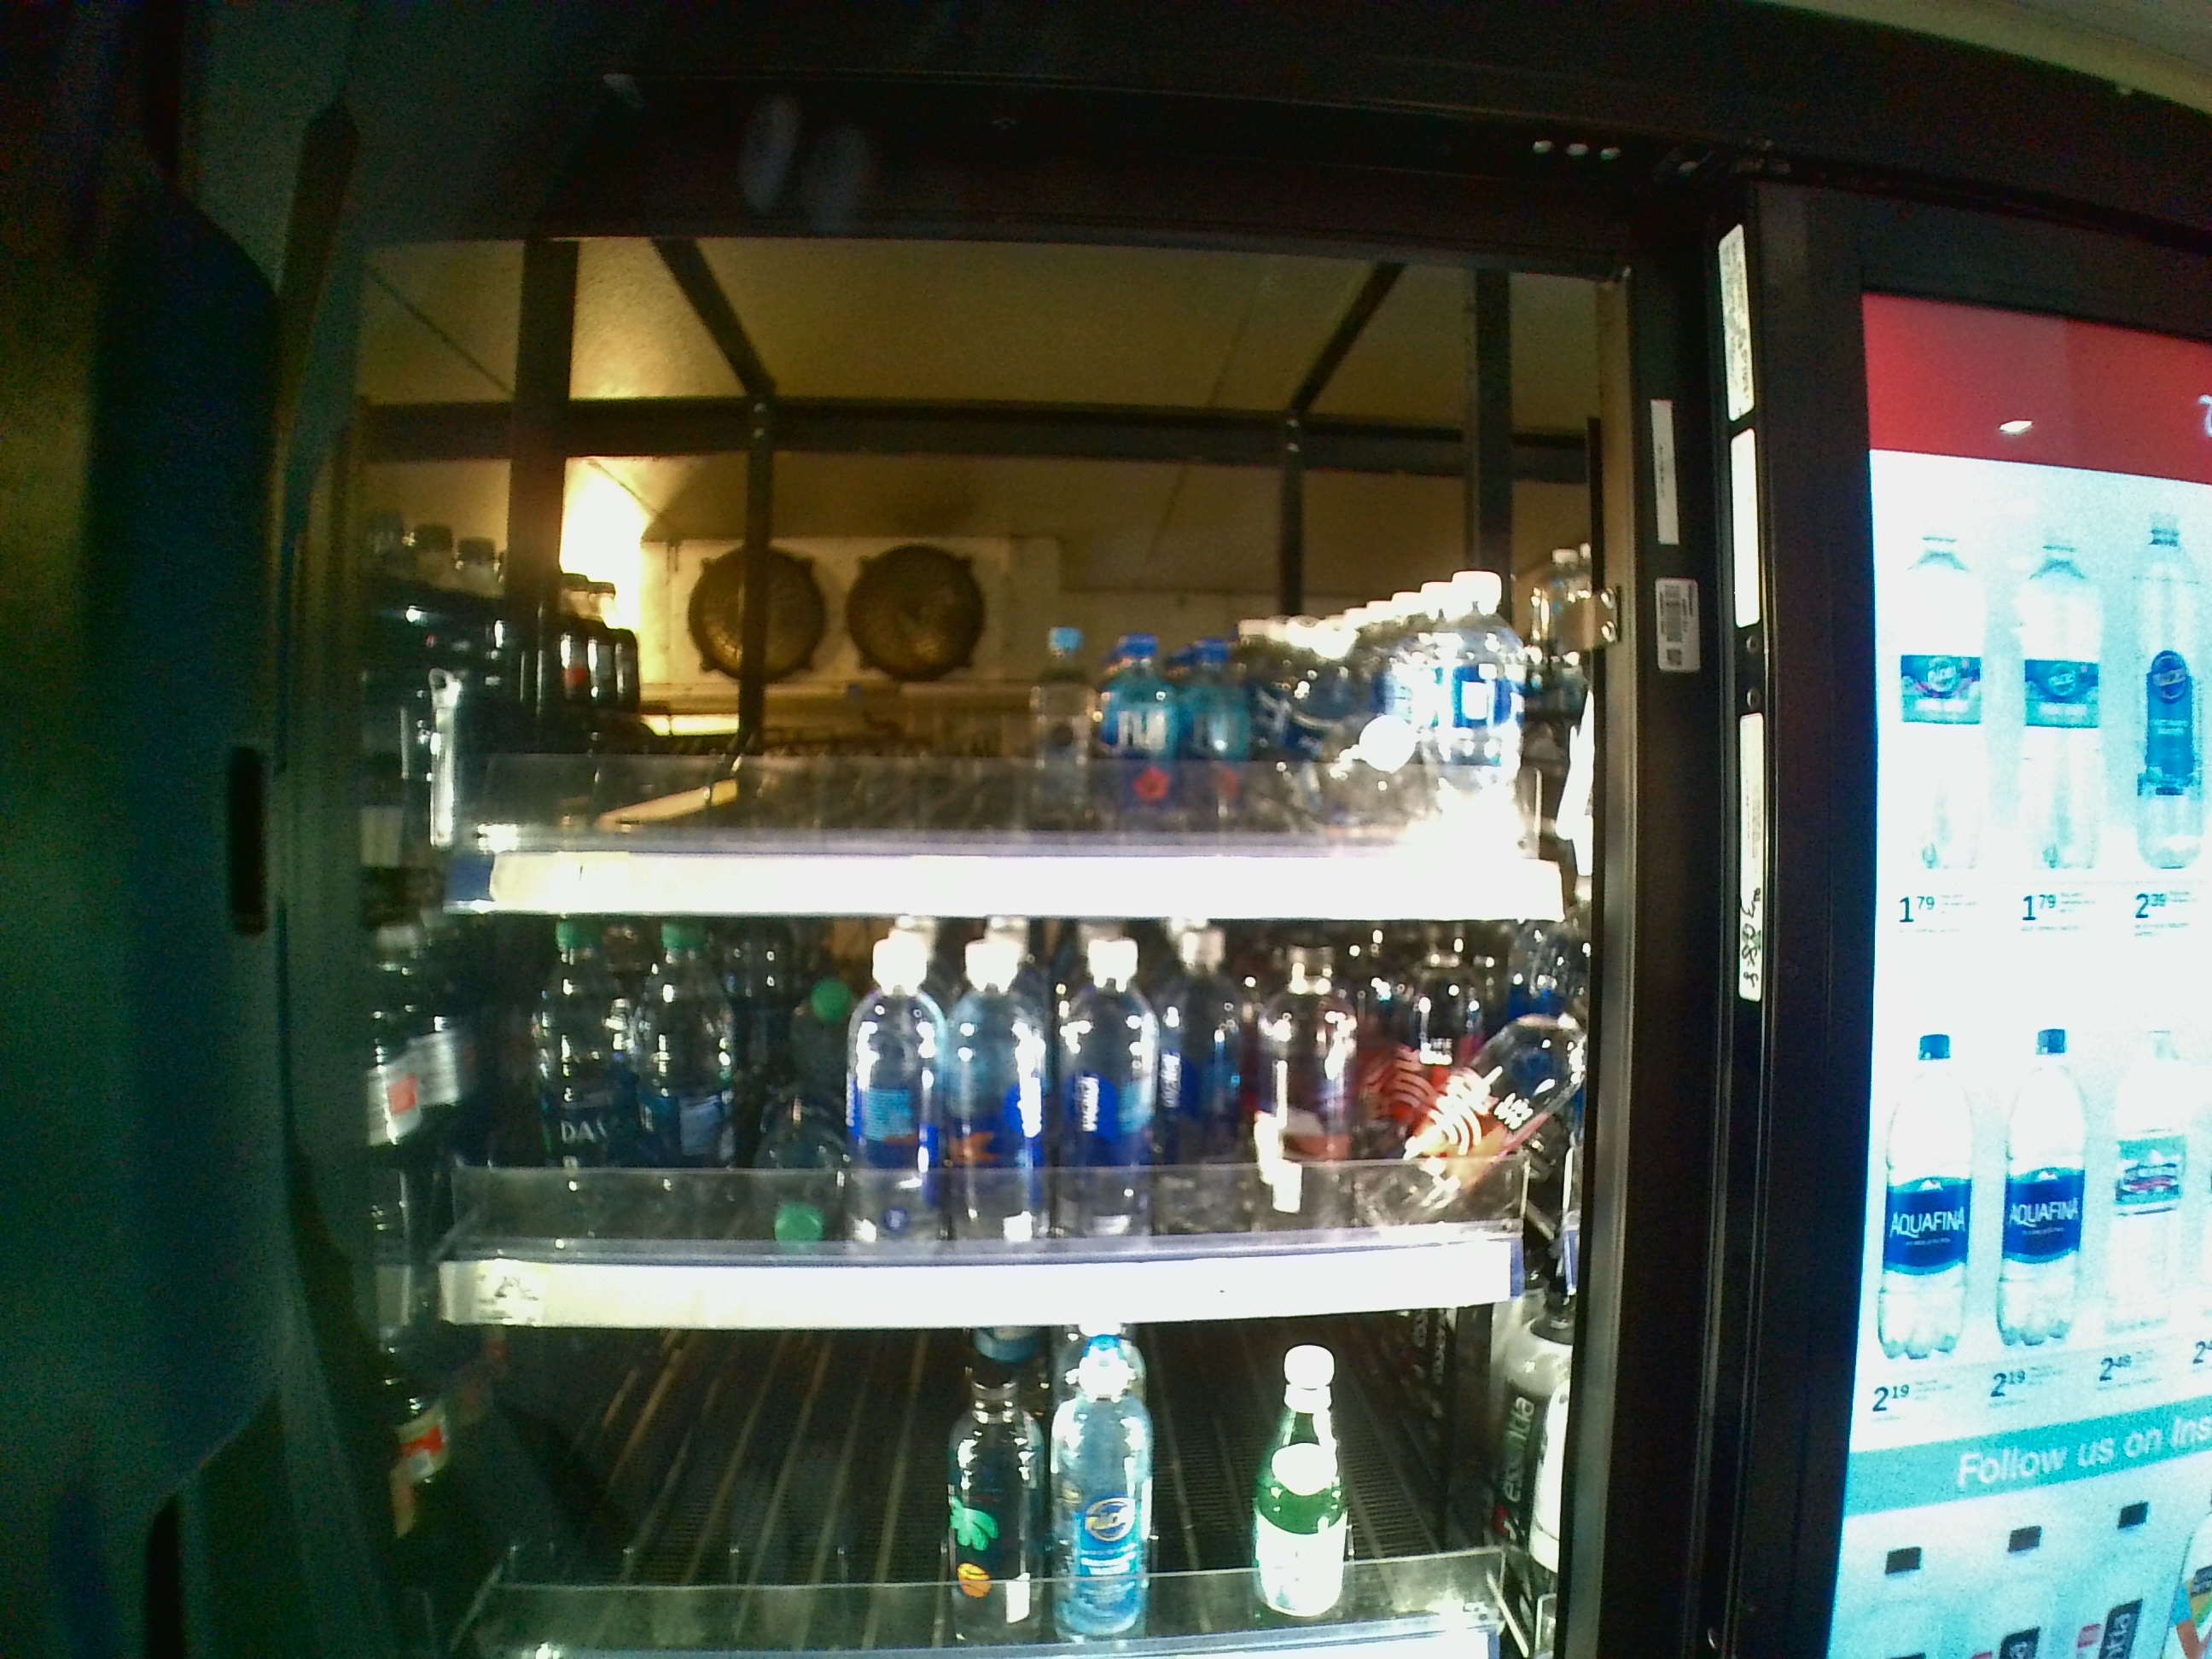shelf: (354, 387, 1595, 917), (350, 917, 1594, 1333)
